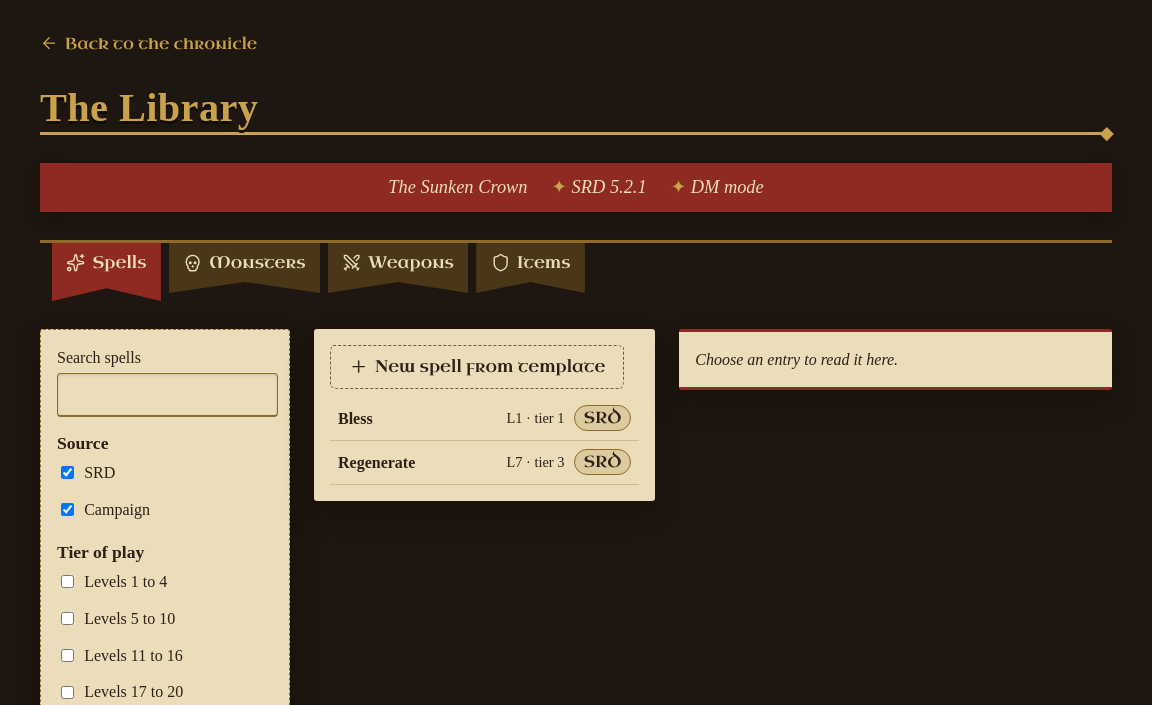
Test: clone and modify › starts a new entry from a template, with nothing to compare
This screenshot has width=1152, height=705.
Check: the text "Bless" is shown, box [338,410,373,427]
Click the button "New spell from template": click(477, 367) [330,345,624,389]
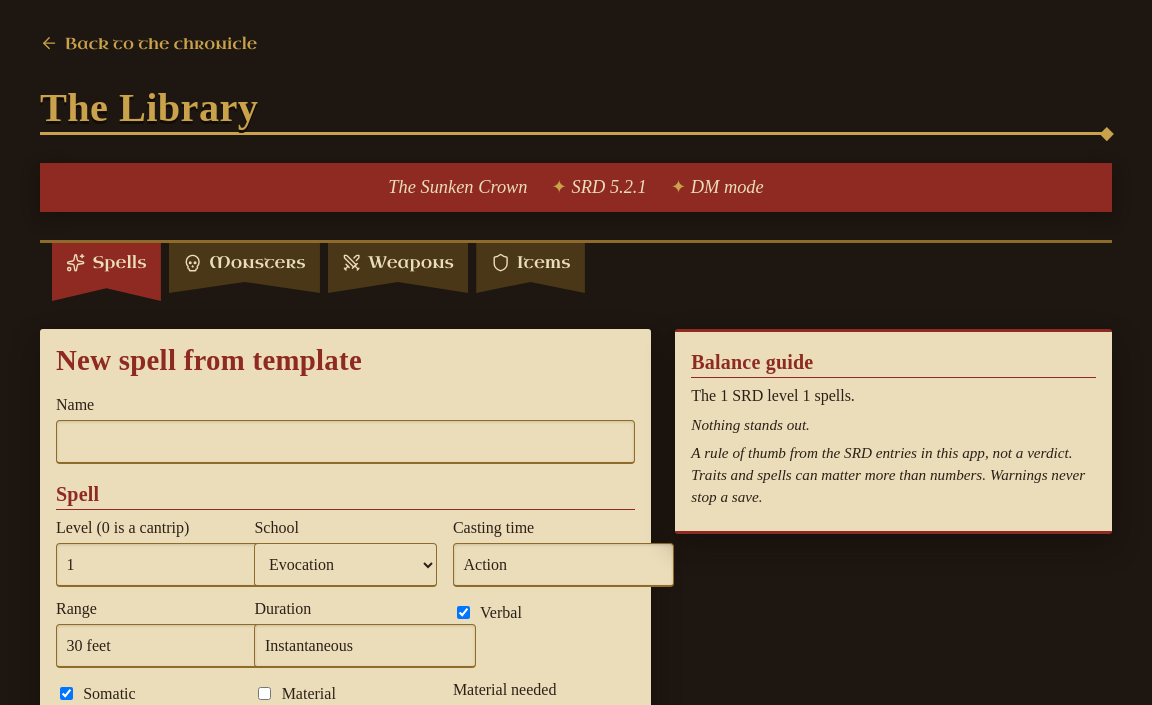
Check: the element "Balance guide" is shown, box [691,348,1096,515]
